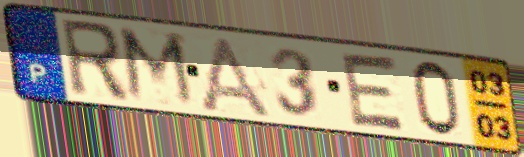0: (409, 59, 463, 137)
3: (266, 46, 320, 119)
A: (195, 34, 278, 122)
E: (338, 50, 410, 134)
M: (115, 24, 202, 112)
R: (56, 16, 133, 105)
